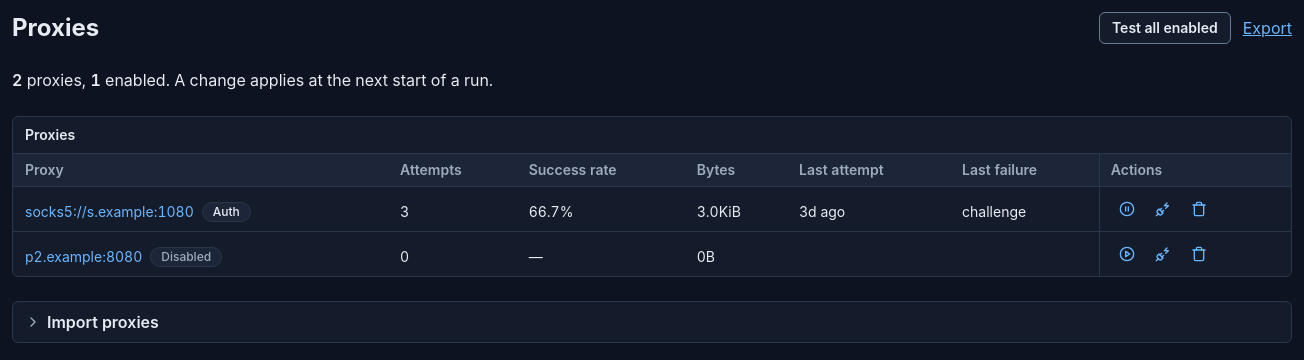
page › shows a refused or failed test request
Click the button named "Test p2.example:8080" at (1163, 254), box x1=1147 y1=238 x2=1179 y2=270
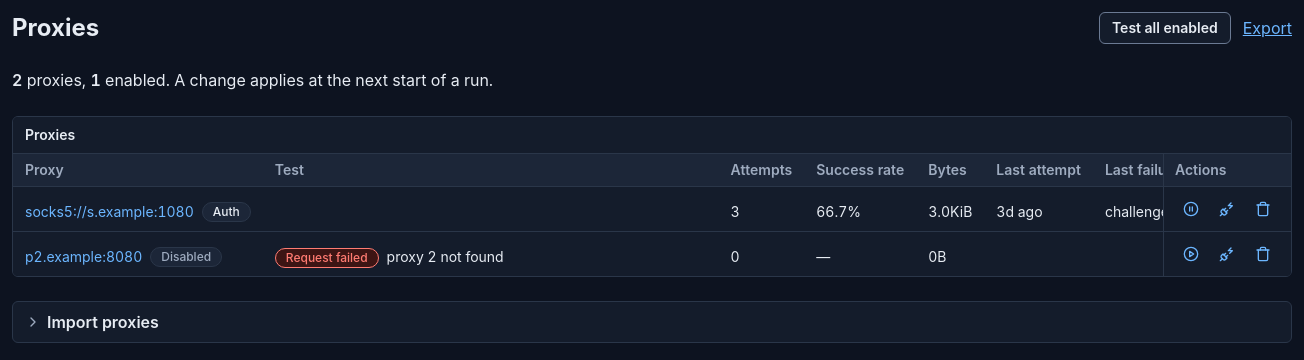
expect the element showing "Request failed proxy 2 not found" is shown: met, box x1=275 y1=248 x2=504 y2=268
Click the button named "Test p2.example:8080" at (1227, 254), box x1=1211 y1=238 x2=1243 y2=270
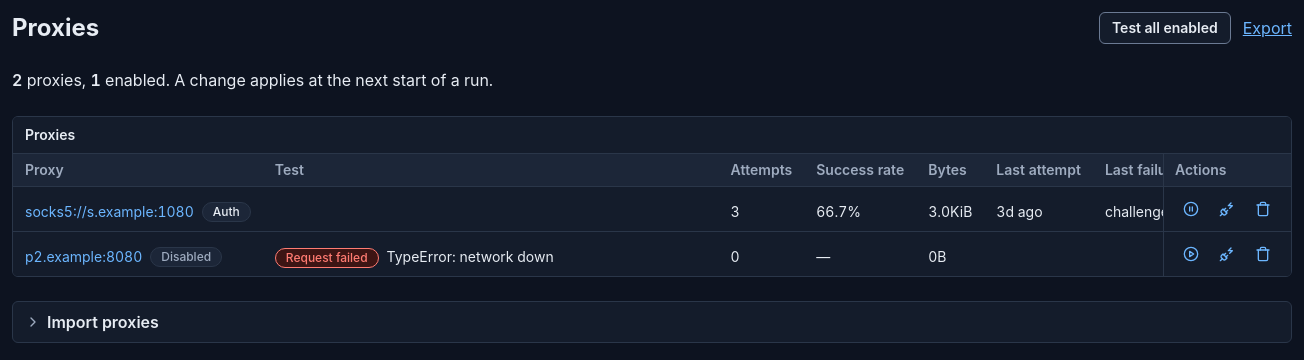
expect the element showing "Request failed TypeError: network down" is shown: met, box x1=275 y1=248 x2=554 y2=268
